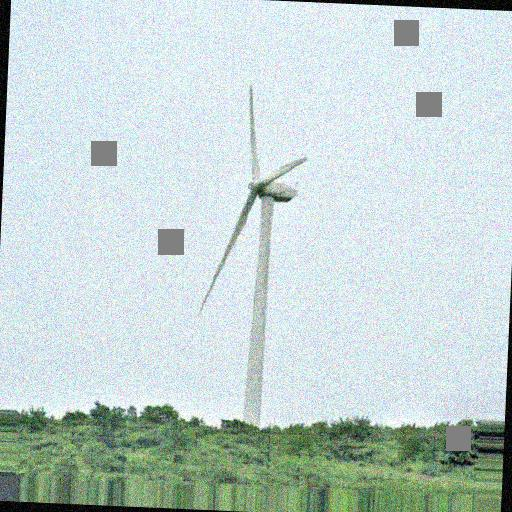wind turbine: (197, 84, 309, 435)
